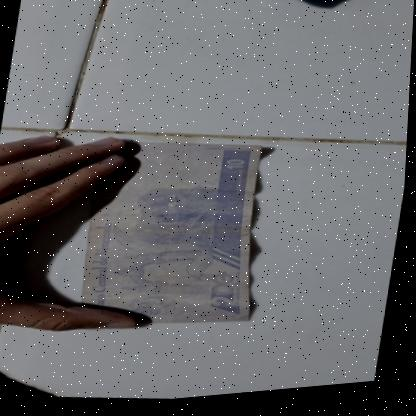ten-back-vef: (76, 130, 280, 346)
